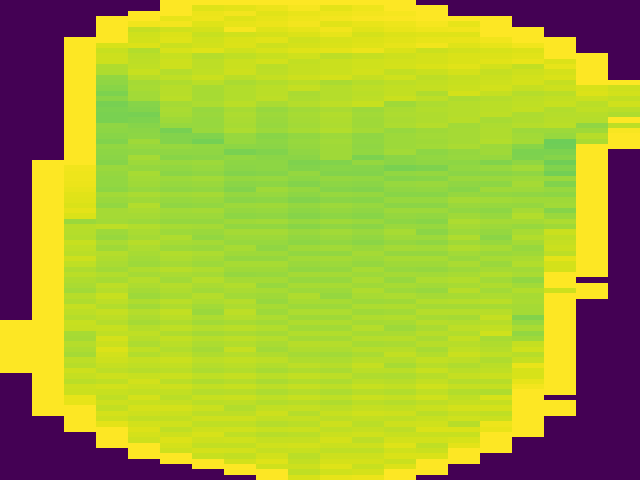cylinder: (4, 4, 640, 480)
